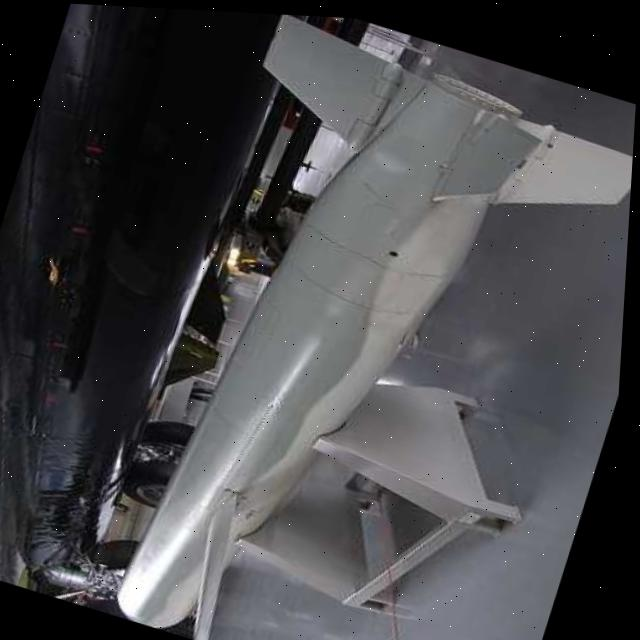missile: (83, 5, 640, 640)
